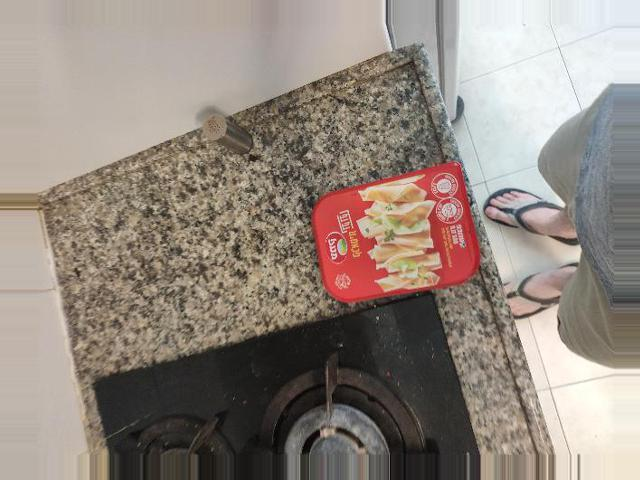cheese: (192, 171, 343, 309)
